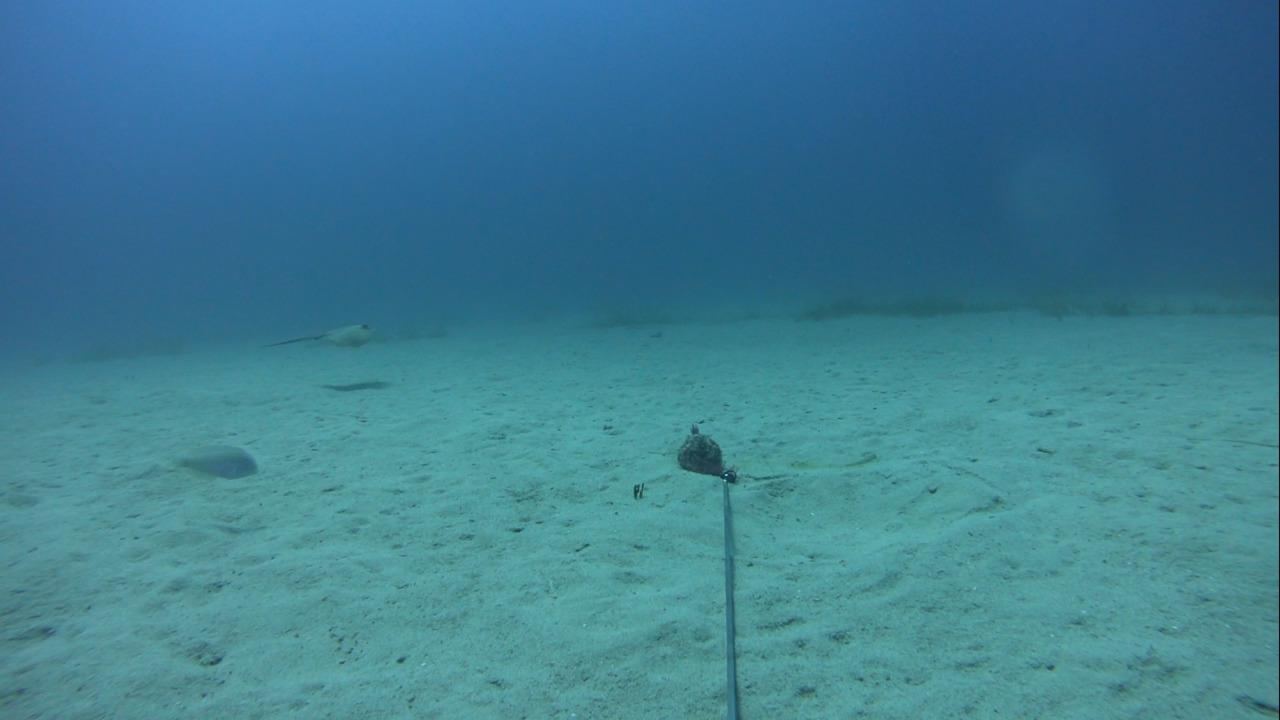myliobatis: (253, 319, 386, 356)
raor: (160, 438, 258, 484)
